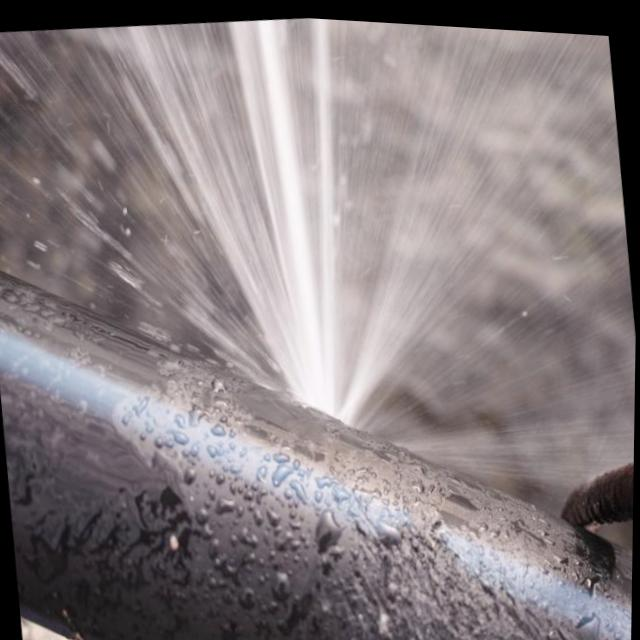leak: (0, 20, 635, 525)
